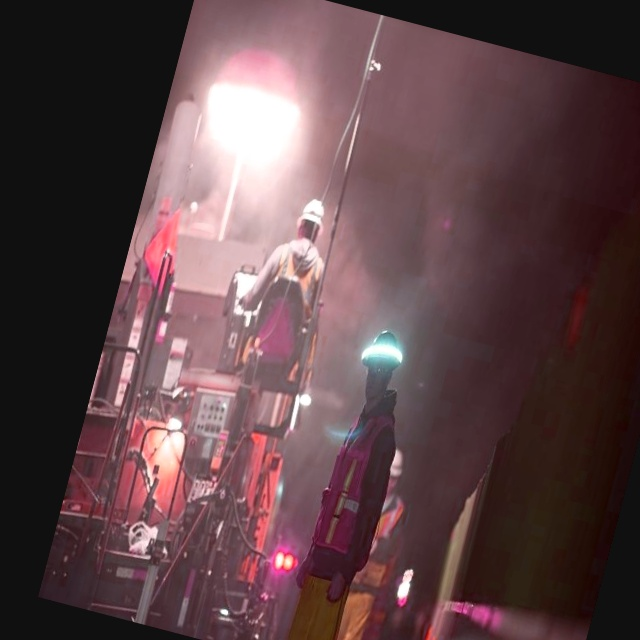Con_Chaleco: (307, 406, 405, 574)
